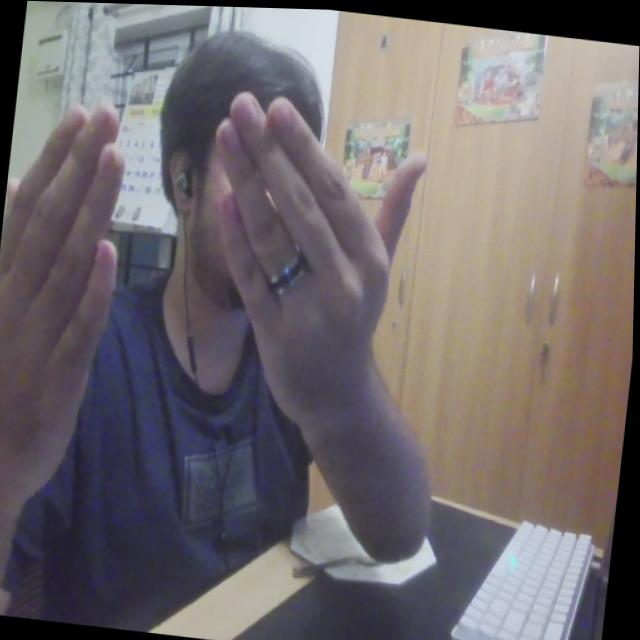thankyou: (0, 63, 442, 545)
